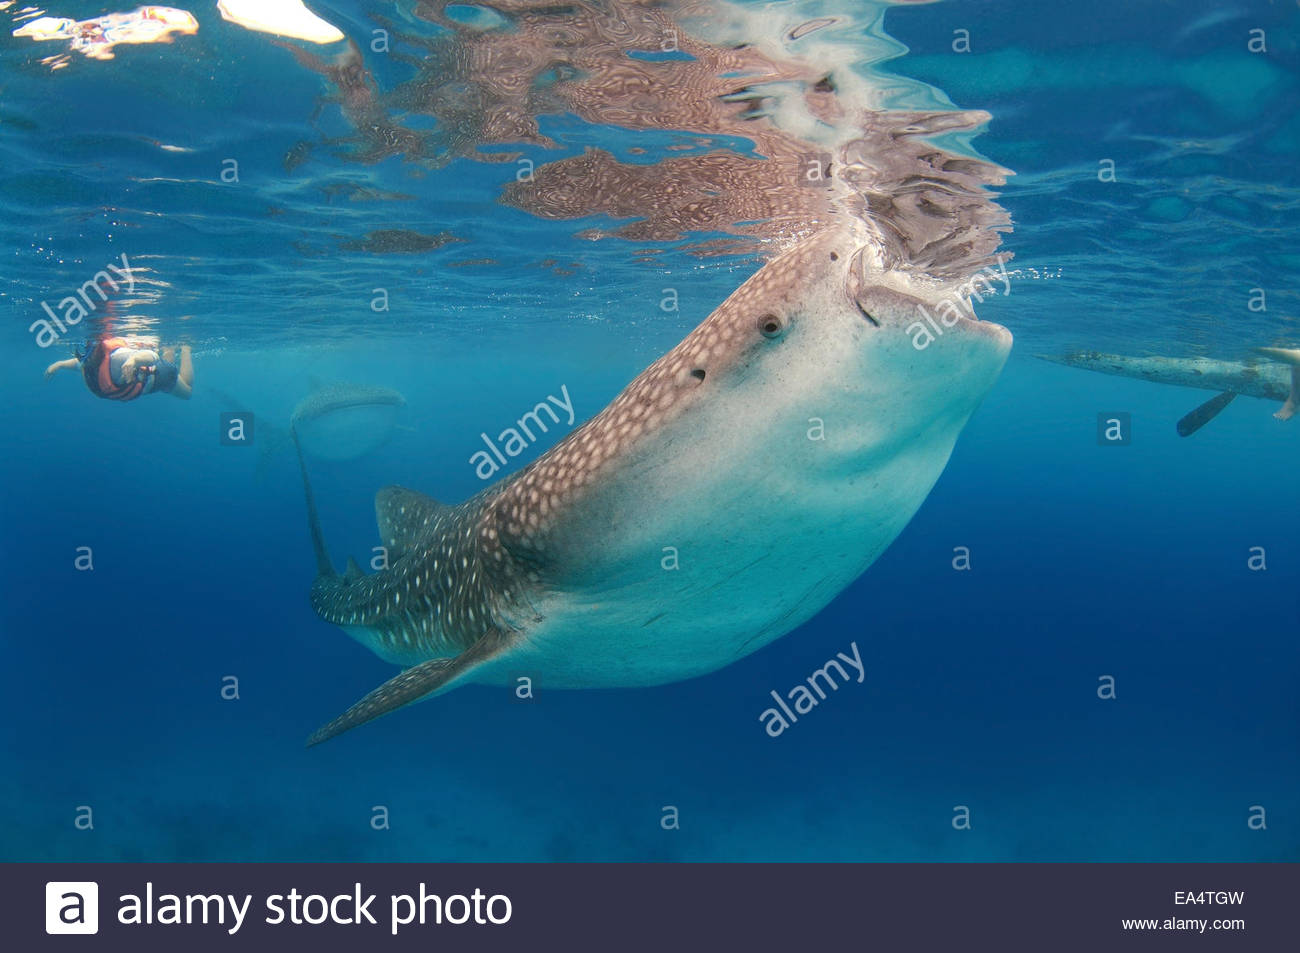Rhincodon_typusw: (244, 257, 1020, 815)
